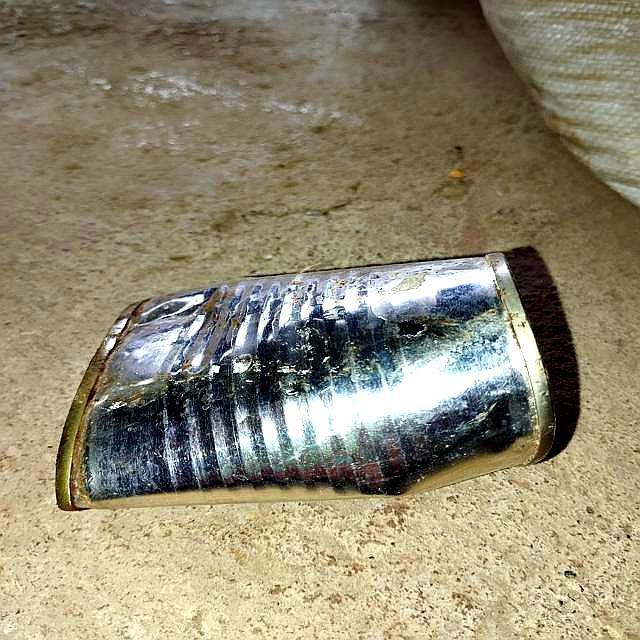Non-biodegradable: (54, 246, 560, 514)
